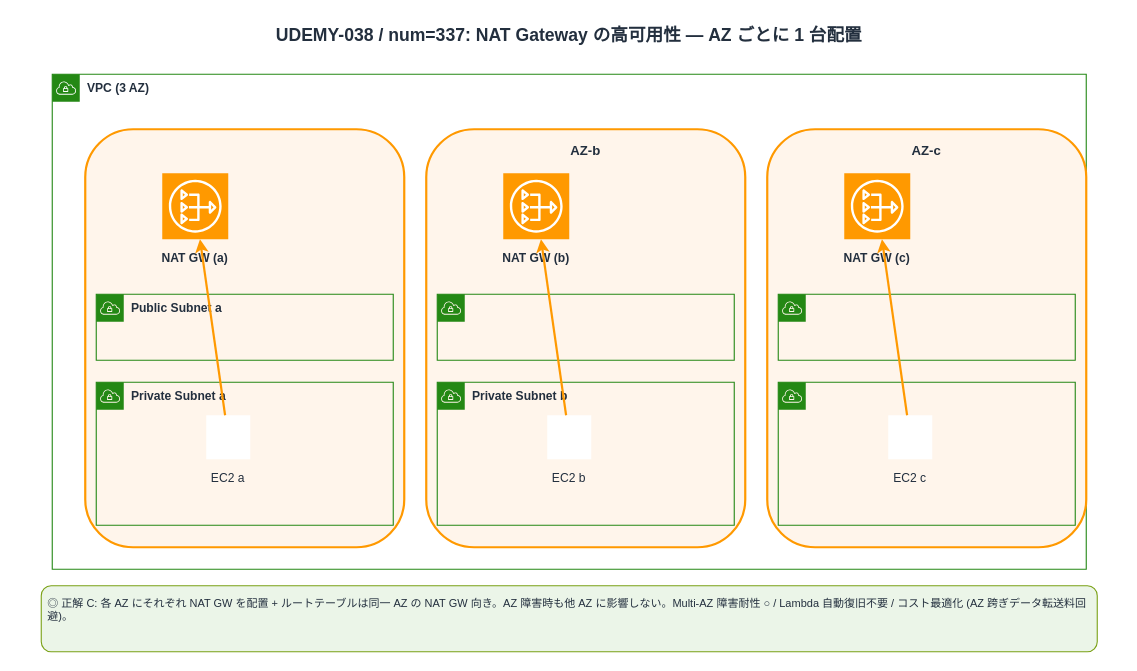
The diagram is 1137 pixels wide and 671 high, and some of its shapes have lost their labels. Each missing label, with the box of its shape:
AZ-a: (84, 128, 405, 548)
Private Subnet c: (777, 381, 1075, 525)
Public Subnet b: (436, 293, 734, 360)
Public Subnet c: (777, 293, 1075, 360)
